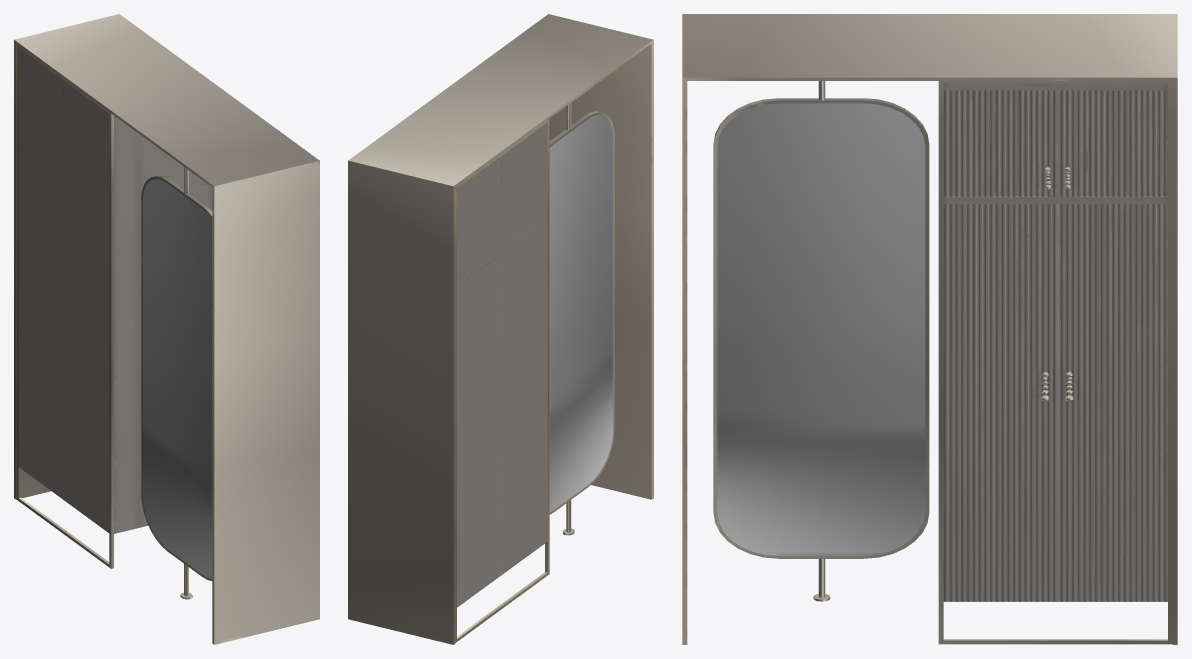
The model's file is 5_fb2c12f1-6169-41d3-b739-e5a48aea86c9.obj.
3 views of the same model, side by side, from view 1: azimuth 30°, elevation 25°; view 2: azimuth 150°, elevation 25°; view 3: azimuth 270°, elevation 25° (orthographic). The views are drawn at different scales.
Size of the model in its own units: 0.5999 by 2.4 by 1.9.
1 material, 1 textured.
